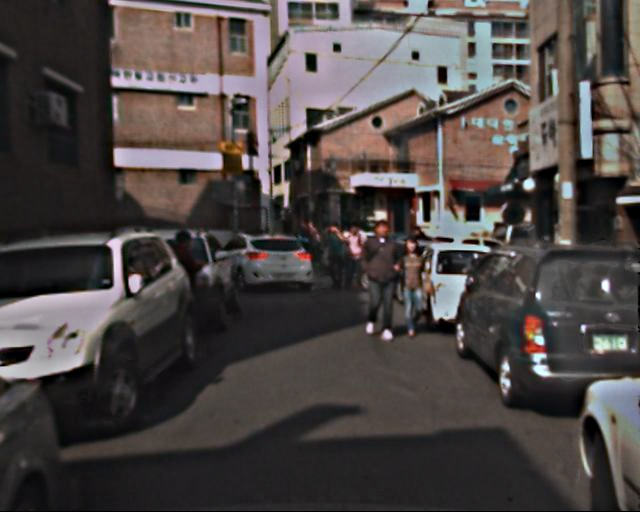person: (356, 221, 404, 339), (163, 229, 206, 335), (393, 237, 434, 336), (322, 222, 350, 291), (343, 227, 369, 291), (299, 218, 329, 262)
